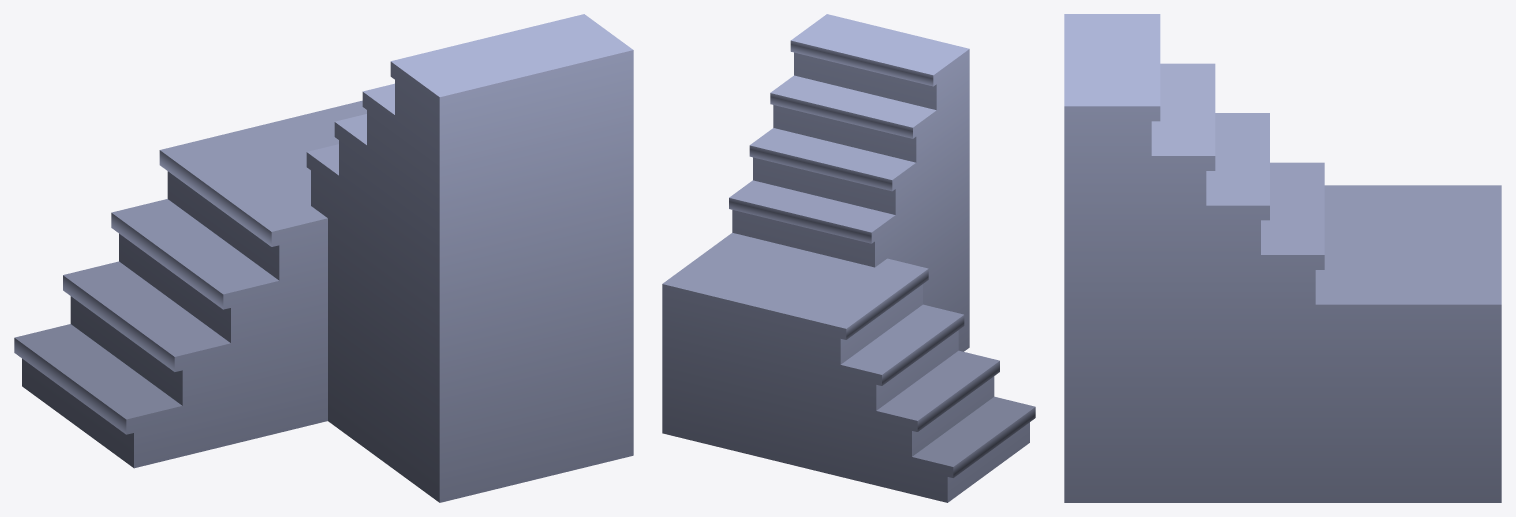
File: stairs-kn-stairs-stone-corner.glb
The picture shows the model from 3 angles, left to right: view 1: azimuth 30°, elevation 25°; view 2: azimuth 150°, elevation 25°; view 3: azimuth 270°, elevation 25°; orthographic projection. The views are drawn at different scales.
Visible parts, largest first — view 1: stairs-stone-corner; view 2: stairs-stone-corner; view 3: stairs-stone-corner.
Boxes of the visible parts, bbox=[...] form: stairs-stone-corner: bbox=[14, 14, 633, 502]; stairs-stone-corner: bbox=[662, 14, 1035, 502]; stairs-stone-corner: bbox=[1064, 14, 1501, 502].
Size of the model in its own units: 3.06 by 3 by 3.
1 material, 1 textured.
